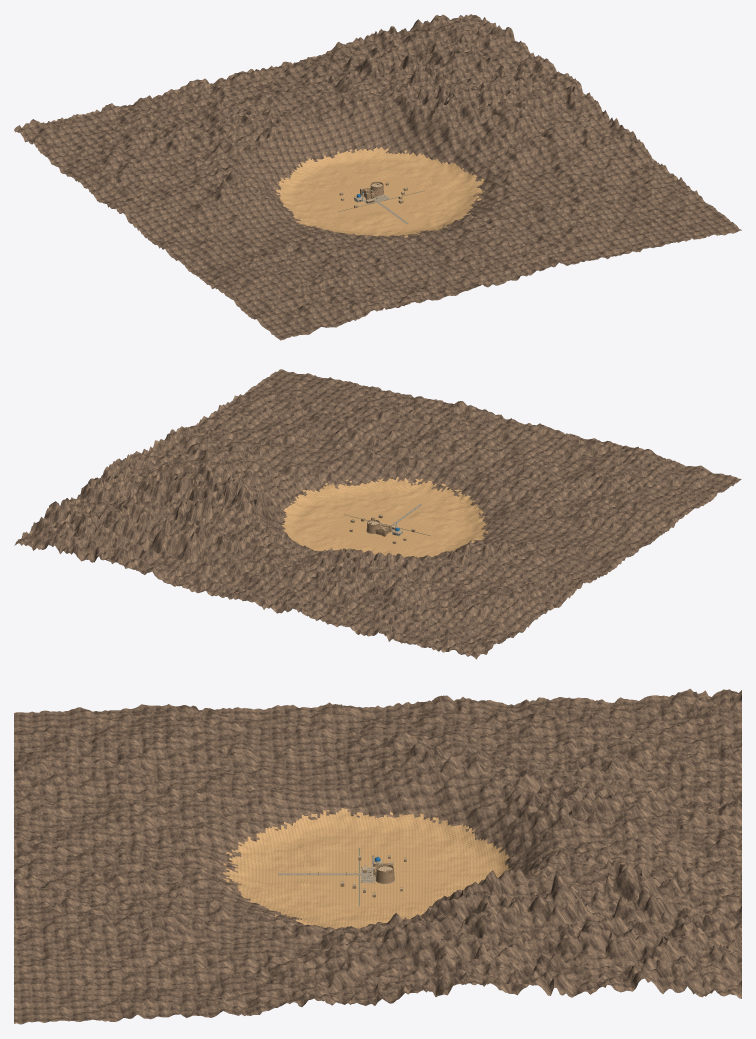
The model's file is nizwa_fort.glb.
3 views of the same model, one above another, from view 1: azimuth 30°, elevation 25°; view 2: azimuth 150°, elevation 25°; view 3: azimuth 270°, elevation 25° (orthographic). The views are drawn at different scales.
Parts seen in each view (by area): view 1: Terrain, Fort_Static; view 2: Terrain, Fort_Static; view 3: Terrain, Fort_Static.
Boxes of the visible parts, x1=… form: Terrain: x1=14, y1=14, x2=741, y2=340; Fort_Static: x1=339, y1=181, x2=424, y2=224; Terrain: x1=14, y1=369, x2=741, y2=659; Fort_Static: x1=344, y1=504, x2=430, y2=543; Terrain: x1=14, y1=688, x2=741, y2=1024; Fort_Static: x1=278, y1=848, x2=406, y2=905.
Size of the model in its own units: 1600 by 189 by 1600.
18 materials, 8 textured.
